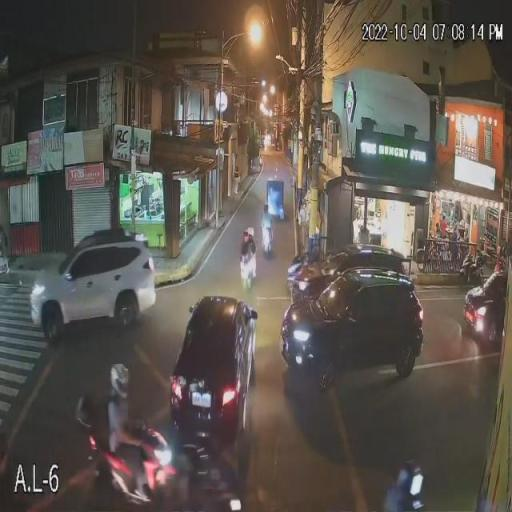helmet: (395, 459, 428, 496), (106, 360, 134, 400), (246, 225, 255, 238), (242, 231, 249, 246)
motorcycle: (75, 405, 184, 501), (240, 247, 255, 289)
rider: (103, 400, 151, 499), (382, 487, 424, 512), (247, 239, 256, 278), (242, 242, 251, 260)
